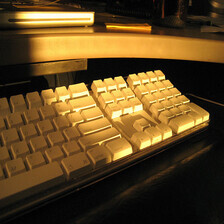laptop: (1, 2, 101, 34)
